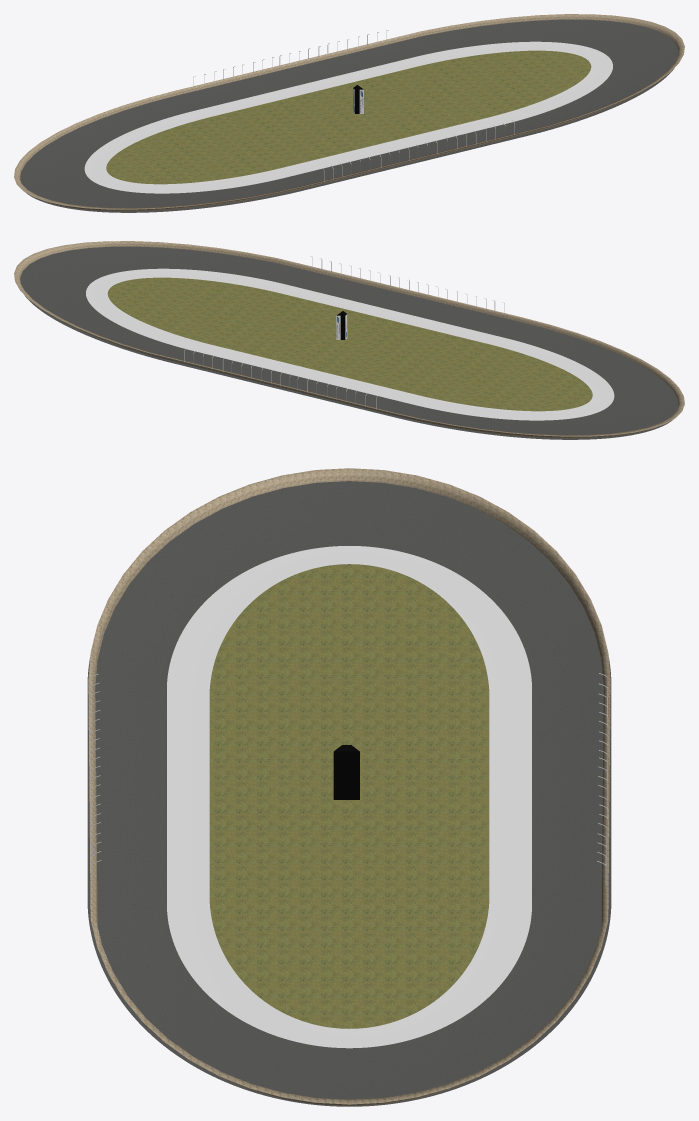
The model's file is track_v2.glb.
The picture shows the model from 3 angles, top to bottom: view 1: azimuth 30°, elevation 25°; view 2: azimuth 150°, elevation 25°; view 3: azimuth 270°, elevation 25°; orthographic projection. The views are drawn at different scales.
Visible parts, largest first — view 1: Track-col, Walls-col; view 2: Track-col, Walls-col, Cylinder.001; view 3: Track-col, Walls-col, Cylinder.001.
Boxes of the visible parts, box(x1,y1,x2,y2) form: Track-col: box(20, 19, 678, 212); Walls-col: box(14, 14, 684, 211); Track-col: box(20, 246, 678, 439); Walls-col: box(14, 241, 684, 438); Cylinder.001: box(336, 311, 347, 339); Track-col: box(87, 481, 611, 1106); Walls-col: box(88, 468, 610, 1105); Cylinder.001: box(333, 745, 359, 799).
Bounding box in the file's own units: 409 × 16.91 × 142.
6 materials, 4 textured.
